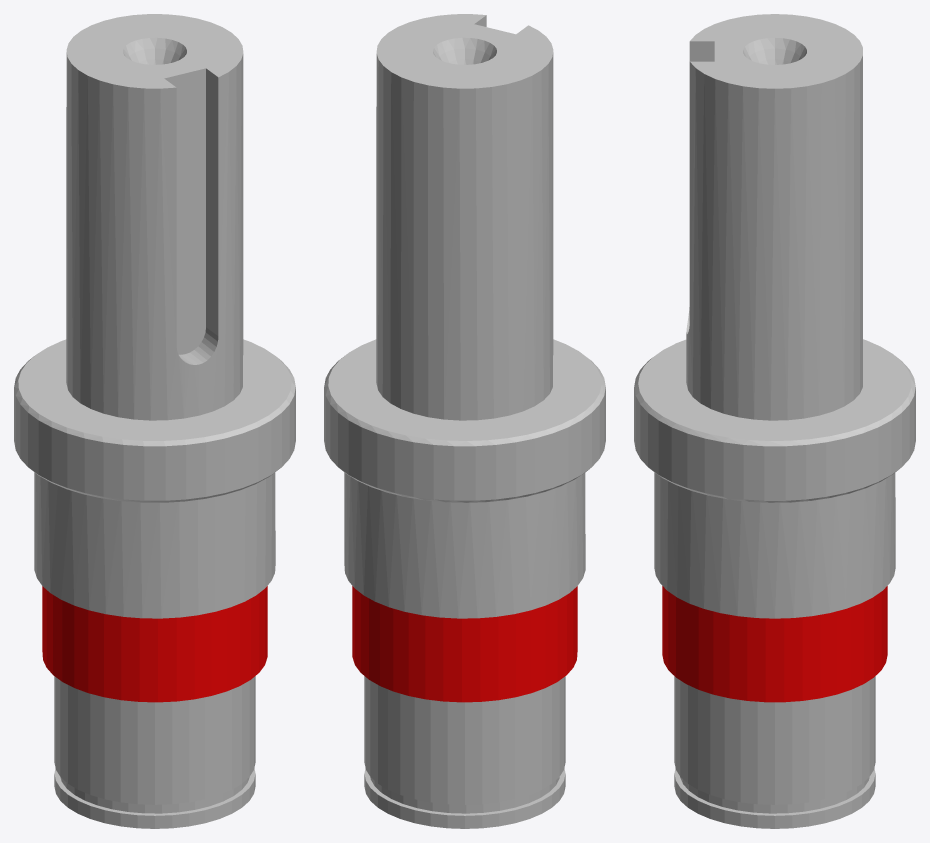
File: 13_stp_8_17.obj
3 renders of one model, left to right at view 1: azimuth 30°, elevation 25°; view 2: azimuth 150°, elevation 25°; view 3: azimuth 270°, elevation 25°, orthographic.
Visible parts, largest first — view 1: Object1; view 2: Object1; view 3: Object1.
Boxes of the visible parts, x1,y1,x2,y2 form: Object1: [14, 14, 295, 828]; Object1: [324, 14, 605, 828]; Object1: [634, 14, 915, 828].
Bounding box in the file's own units: 34.9 × 101 × 35.
